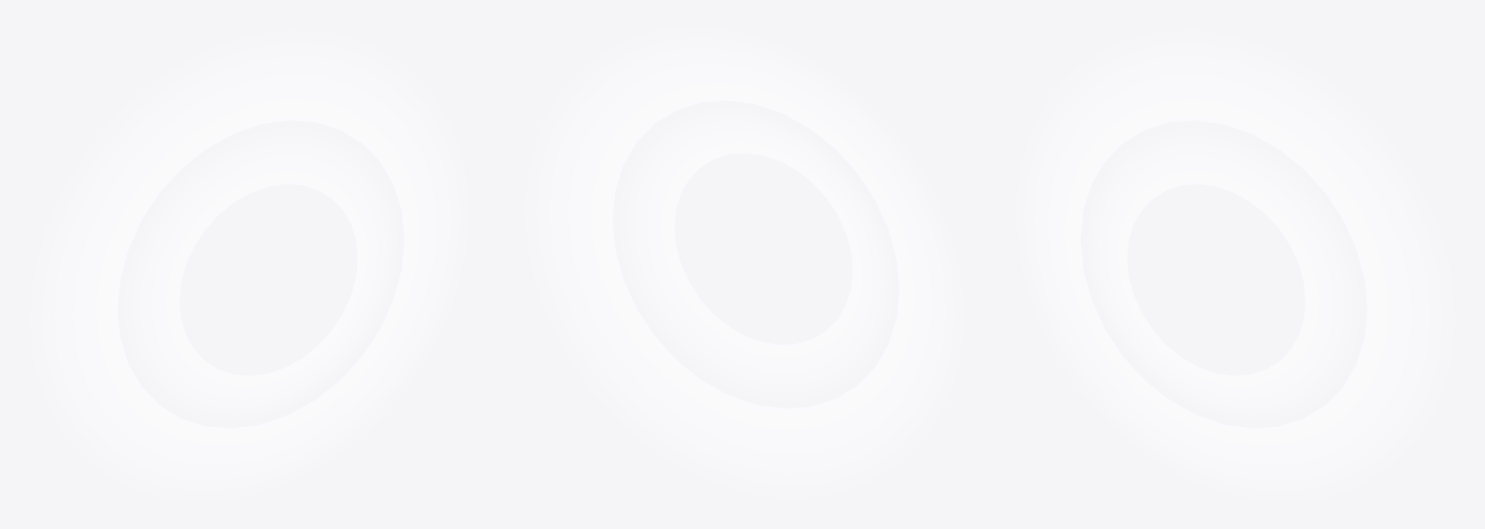
File: beam.glb
3 views of the same model, side by side, from view 1: azimuth 30°, elevation 25°; view 2: azimuth 150°, elevation 25°; view 3: azimuth 330°, elevation 25° (orthographic).
Parts seen in each view (by area): view 1: Circle; view 2: Circle; view 3: Circle.
Boxes of the visible parts, x1,y1,x2,y2 form: Circle: (42,43,459,491); Circle: (537,37,954,485); Circle: (1025,43,1442,491).
Size of the model in its own units: 0.629 by 0.629 by 0.0494.
Materials: 1 (1 with a texture image).
